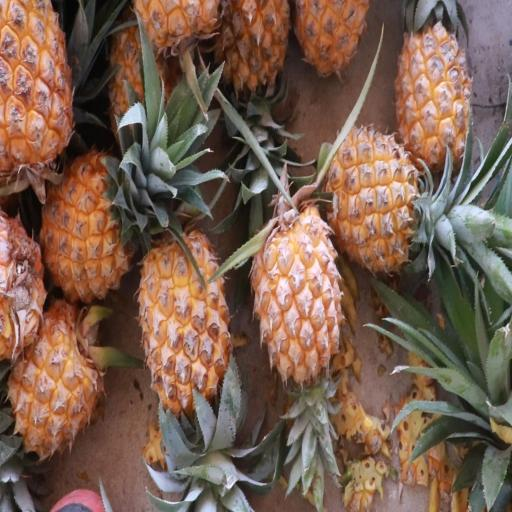Pineapple - v8 v1: (248, 202, 346, 406), (136, 224, 234, 427), (320, 114, 432, 279), (7, 291, 108, 460), (37, 144, 132, 308), (396, 2, 476, 178)
